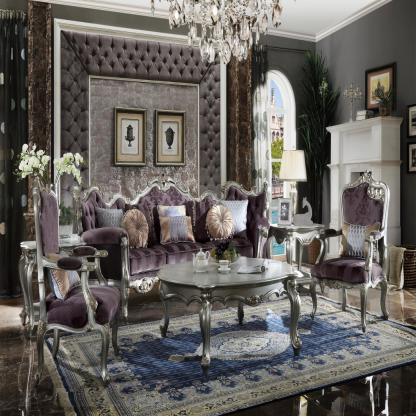kursi: (317, 174, 390, 327)
lampu: (147, 1, 286, 66)
meja: (25, 187, 120, 401), (156, 256, 310, 365)
